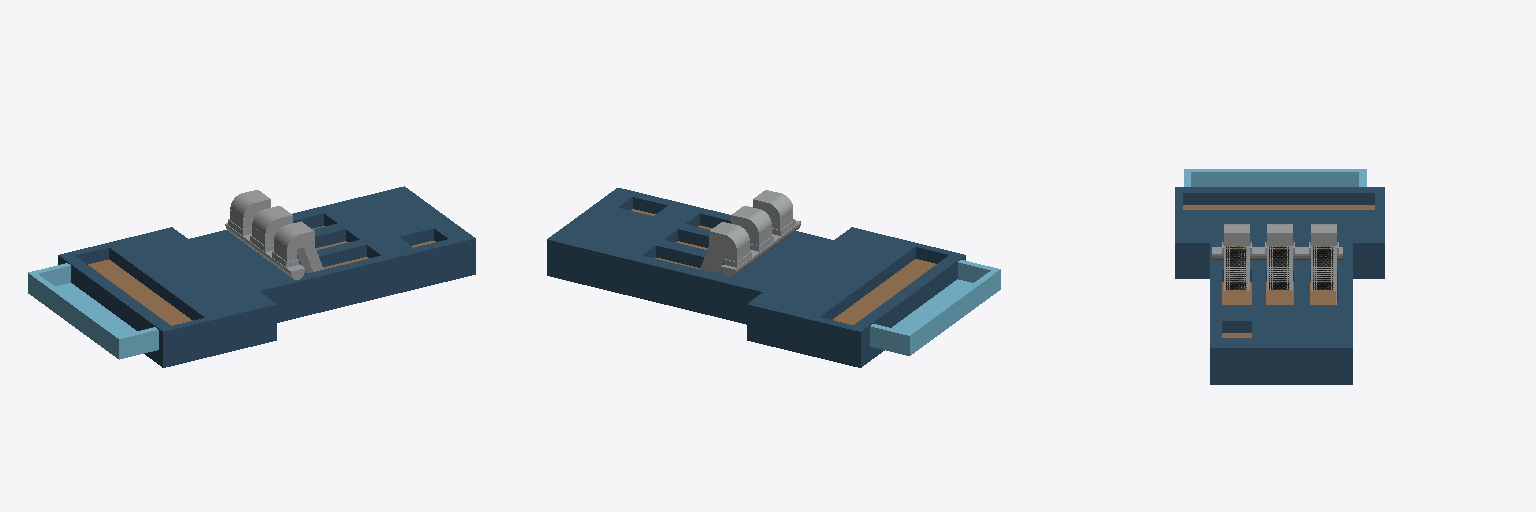
3 renders of one model, left to right at view 1: azimuth 30°, elevation 25°; view 2: azimuth 150°, elevation 25°; view 3: azimuth 270°, elevation 25°, orthographic.
Visible parts, largest first — view 1: ___, ___.3, __, ___.1, ___.5; view 2: ___, ___.3, __, ___.1, ___.5; view 3: ___, ___.4, ___.3, __, ___.2, ___.1.
Part boxes in pixels (bbox=[...]): ___: bbox=[58, 186, 475, 367]; ___.3: bbox=[28, 263, 158, 359]; __: bbox=[226, 190, 314, 271]; ___.1: bbox=[88, 259, 192, 325]; ___.5: bbox=[230, 210, 296, 261]; ___: bbox=[547, 188, 965, 367]; ___.3: bbox=[870, 260, 1000, 355]; __: bbox=[709, 190, 799, 269]; ___.1: bbox=[833, 259, 936, 324]; ___.5: bbox=[727, 210, 792, 261]; ___: bbox=[1175, 187, 1384, 384]; ___.4: bbox=[1224, 246, 1336, 304]; ___.3: bbox=[1184, 169, 1366, 186]; __: bbox=[1212, 224, 1342, 253]; ___.2: bbox=[1222, 282, 1335, 337]; ___.1: bbox=[1183, 205, 1374, 209].
Size of the model in its own units: 7379 by 1463 by 3638.
5 materials, 1 textured.